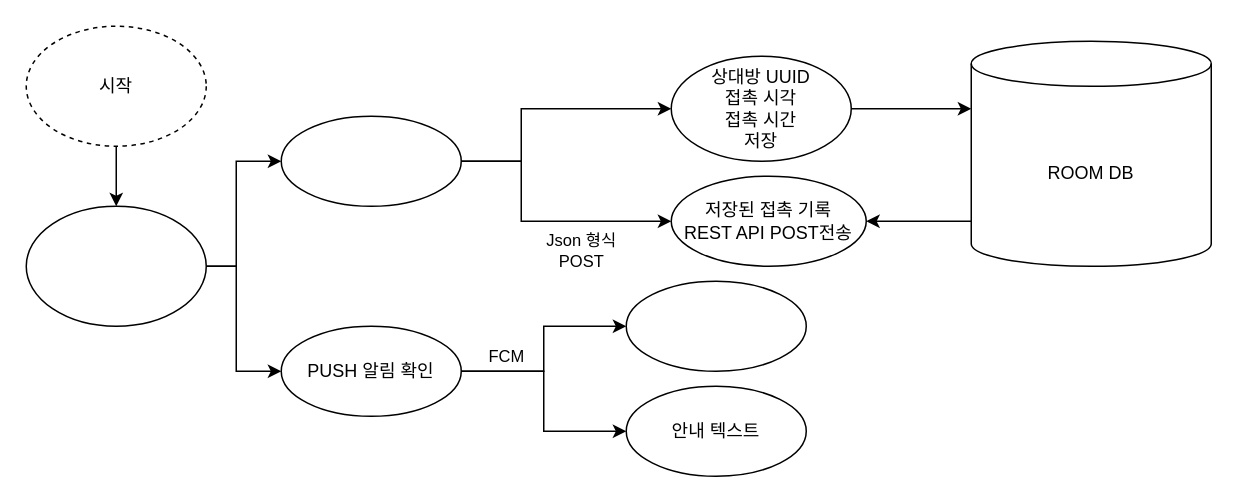
The diagram is 1238 pixels wide and 503 high, and some of its shapes have lost their labels. Here are the shapes that lost their labels. From the top down, the box of each, then its label:
(280, 115, 461, 206): 기능
(25, 205, 206, 326): 앱 실행
(625, 280, 806, 371): 위험도 & 접촉 정도
